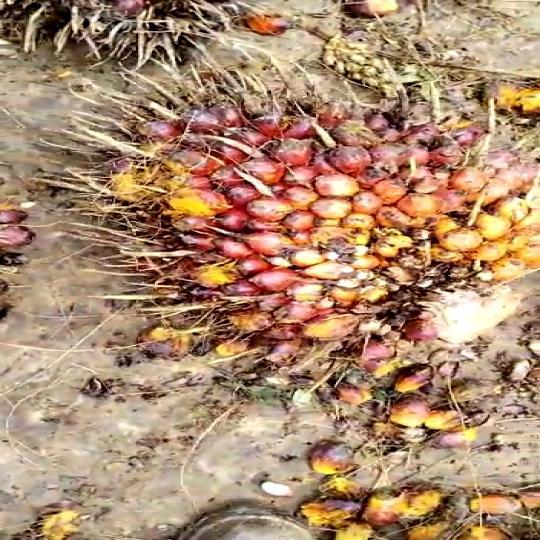masak: (87, 70, 540, 408)
